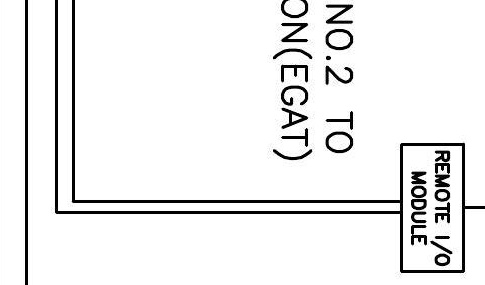remote_io_module: (400, 142, 465, 273)
